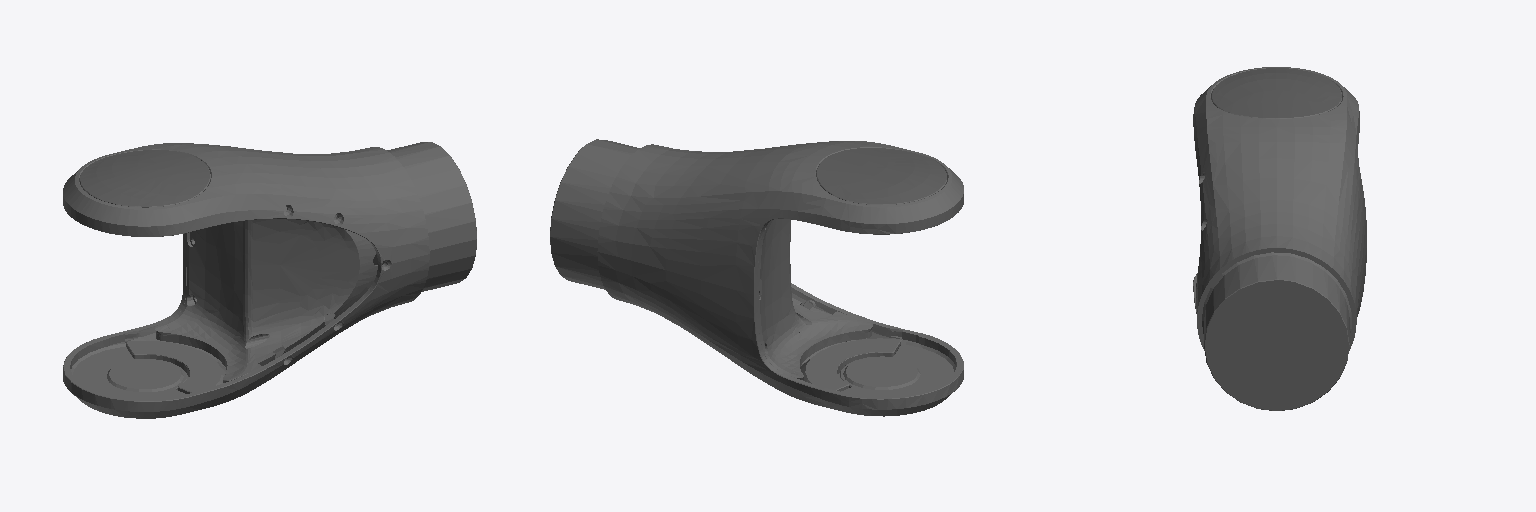
3 renders of one model, left to right at view 1: azimuth 30°, elevation 25°; view 2: azimuth 150°, elevation 25°; view 3: azimuth 270°, elevation 25°, orthographic.
Parts seen in each view (by area): view 1: left_elbow_pitch_link; view 2: left_elbow_pitch_link; view 3: left_elbow_pitch_link.
Boxes of the visible parts, <box> form: left_elbow_pitch_link: <box>63,142,476,418</box>; left_elbow_pitch_link: <box>550,139,963,416</box>; left_elbow_pitch_link: <box>1193,67,1366,410</box>.
Bounding box in the file's own units: 0.1803 × 0.104 × 0.0741.